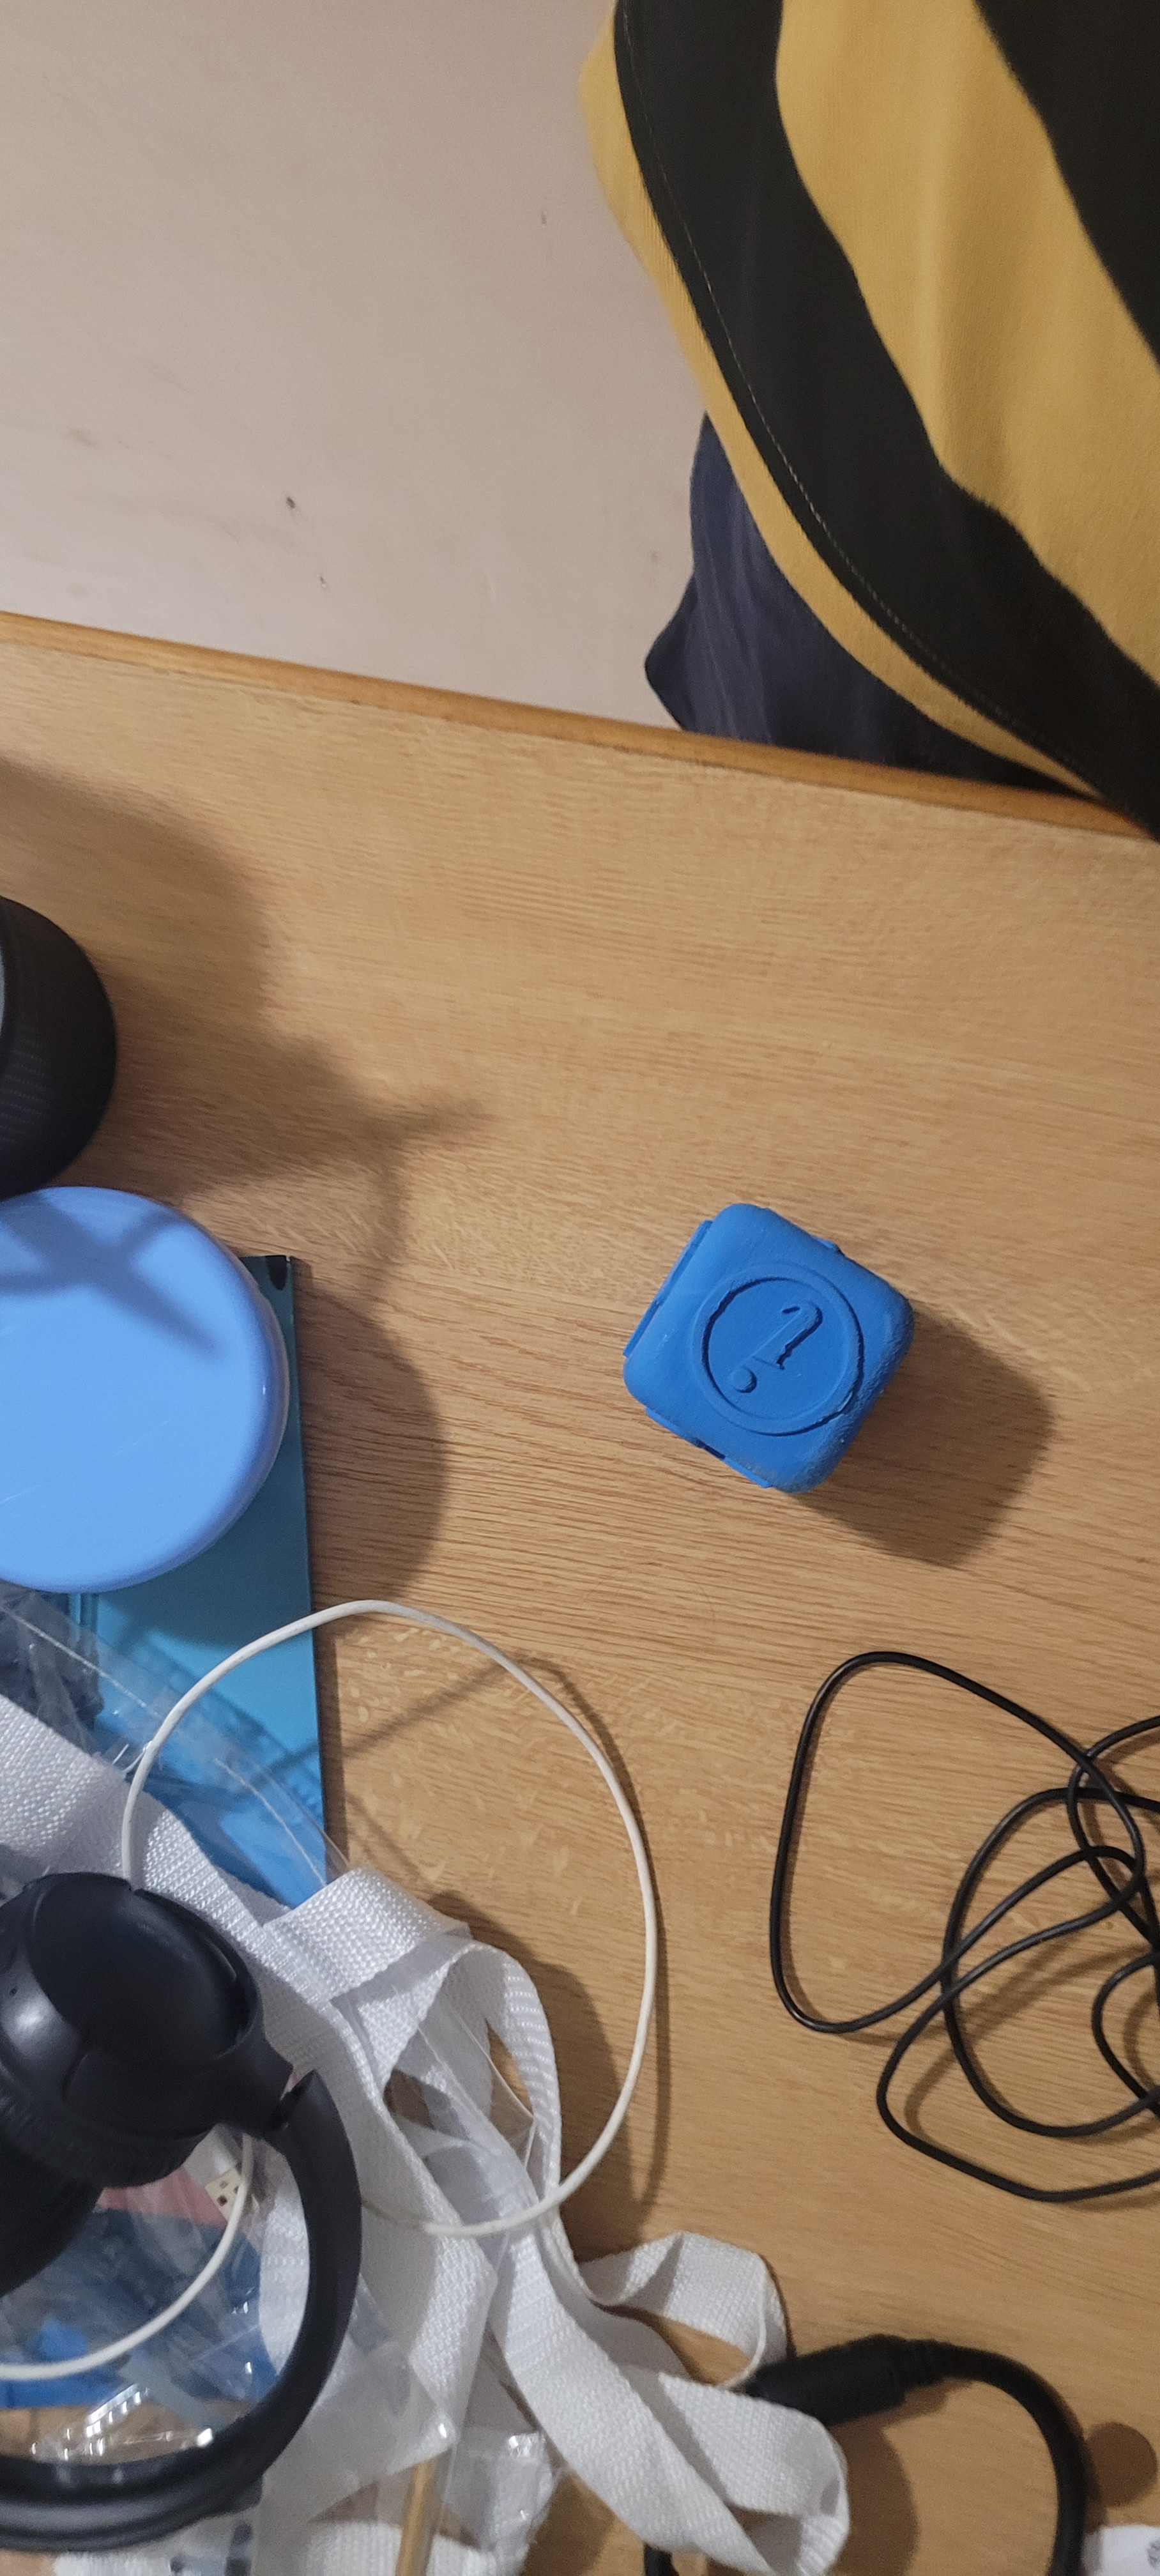Info: (665, 1229, 887, 1457)
